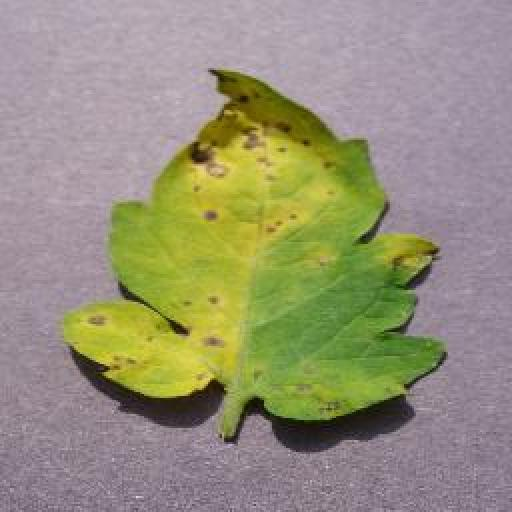disease_tomato: (66, 70, 448, 426)
